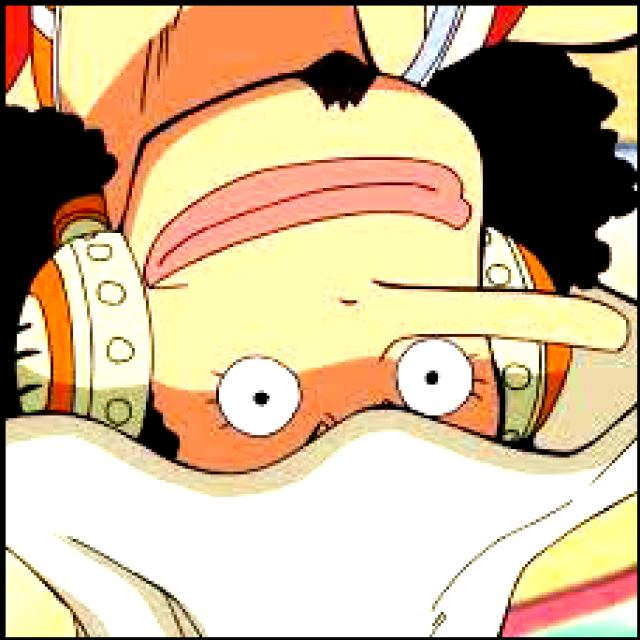Usopp: (3, 0, 640, 640)
